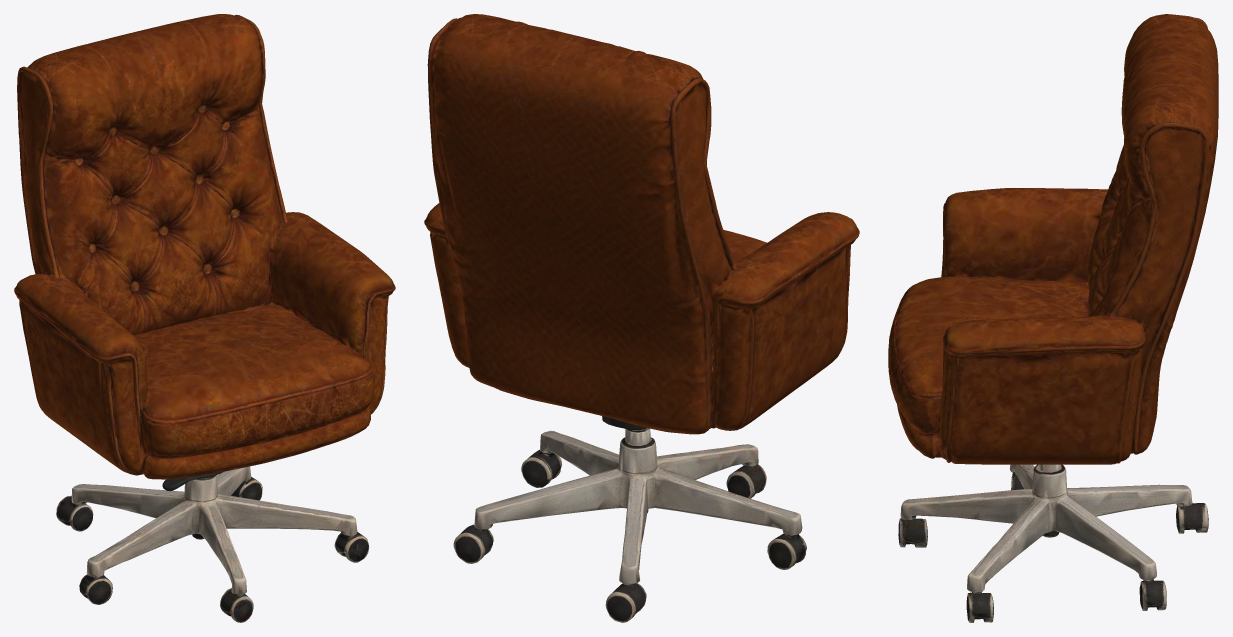
Rendered from chair.glb.
3 views of the same model, side by side, from view 1: azimuth 30°, elevation 25°; view 2: azimuth 150°, elevation 25°; view 3: azimuth 270°, elevation 25° (orthographic). The views are drawn at different scales.
Size of the model in its own units: 1.23 by 1.9 by 1.13.
1 material, 1 textured.
